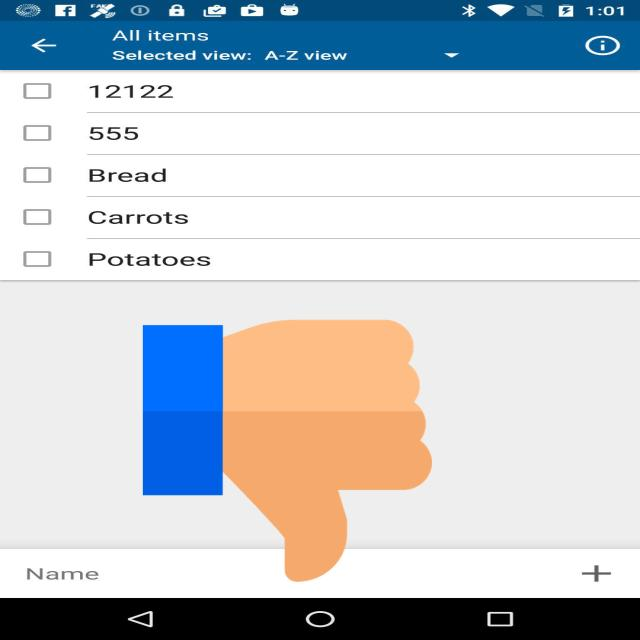obstruction: (143, 314, 432, 588)
